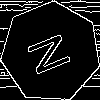N: (26, 27, 81, 78)
